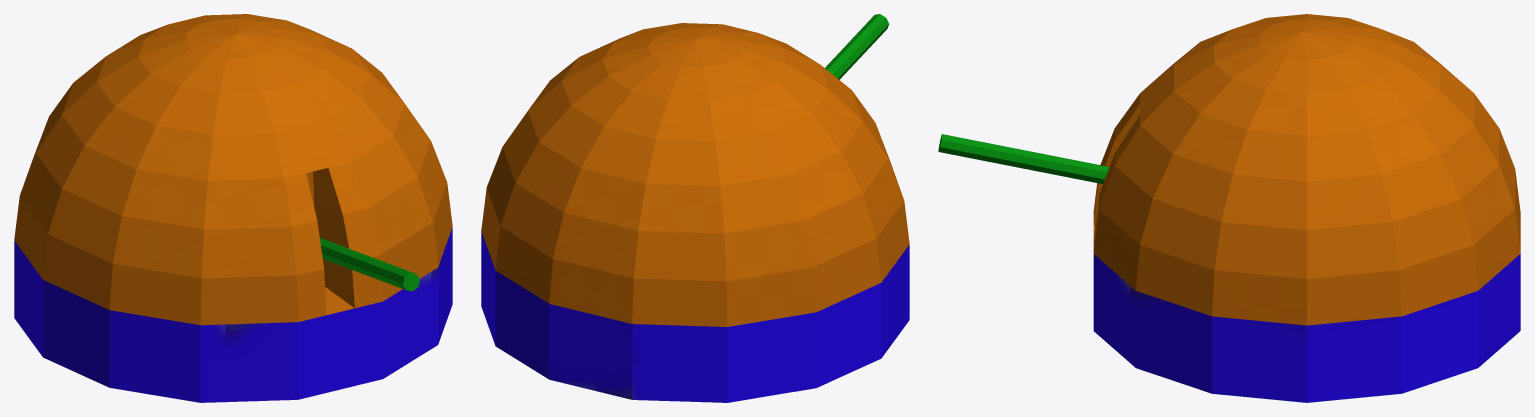
Rendered from basic_gun.obj.
3 renders of one model, left to right at view 1: azimuth 30°, elevation 25°; view 2: azimuth 150°, elevation 25°; view 3: azimuth 270°, elevation 25°, orthographic. The views are drawn at different scales.
Visible parts, largest first — view 1: turret_Sphere, base_Sphere.001, gun_Cylinder; view 2: turret_Sphere, base_Sphere.001, gun_Cylinder; view 3: turret_Sphere, base_Sphere.001, gun_Cylinder.
Boxes of the visible parts, x1=… form: turret_Sphere: x1=14, y1=14, x2=452, y2=325; base_Sphere.001: x1=14, y1=227, x2=452, y2=402; gun_Cylinder: x1=320, y1=238, x2=419, y2=291; turret_Sphere: x1=481, y1=23, x2=909, y2=326; base_Sphere.001: x1=481, y1=231, x2=909, y2=402; gun_Cylinder: x1=825, y1=14, x2=888, y2=79; turret_Sphere: x1=1093, y1=14, x2=1520, y2=325; base_Sphere.001: x1=1093, y1=254, x2=1520, y2=402; gun_Cylinder: x1=938, y1=134, x2=1109, y2=183.
Bounding box in the file's own units: 2 × 1.4 × 2.66.
3 materials, 3 textured.
